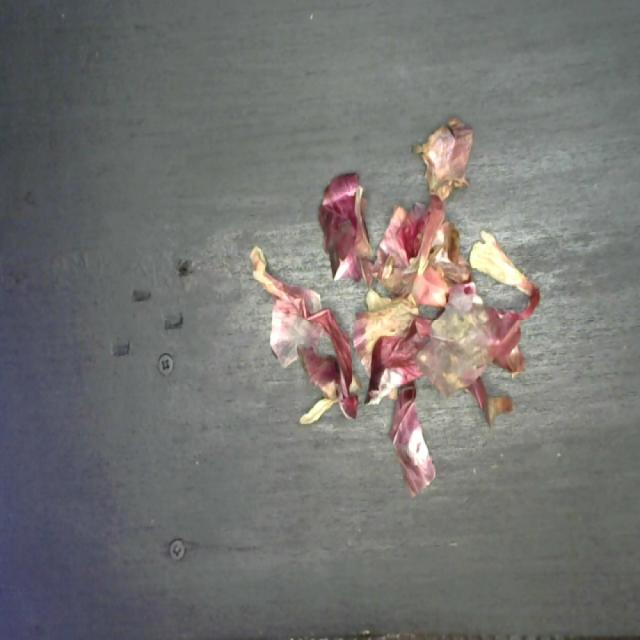biodegradable: (244, 110, 542, 504)
